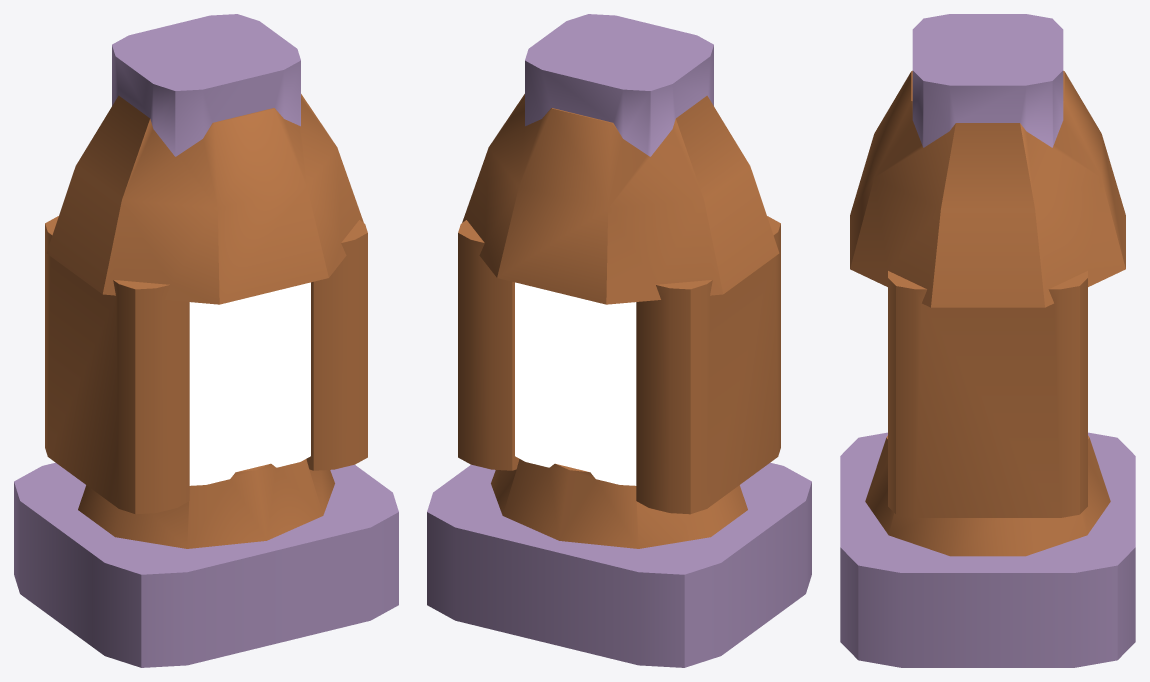
File: sunset-lantern.glb
The picture shows the model from 3 angles, left to right: view 1: azimuth 30°, elevation 25°; view 2: azimuth 150°, elevation 25°; view 3: azimuth 270°, elevation 25°; orthographic projection.
Parts seen in each view (by area): view 1: sunset-lantern; view 2: sunset-lantern; view 3: sunset-lantern.
Part boxes in pixels (x1=…): sunset-lantern: x1=14, y1=14, x2=398, y2=667; sunset-lantern: x1=427, y1=14, x2=811, y2=667; sunset-lantern: x1=840, y1=14, x2=1135, y2=667.
Bounding box in the file's own units: 1.1 × 1.96 × 0.96.
2 materials, 1 textured.
